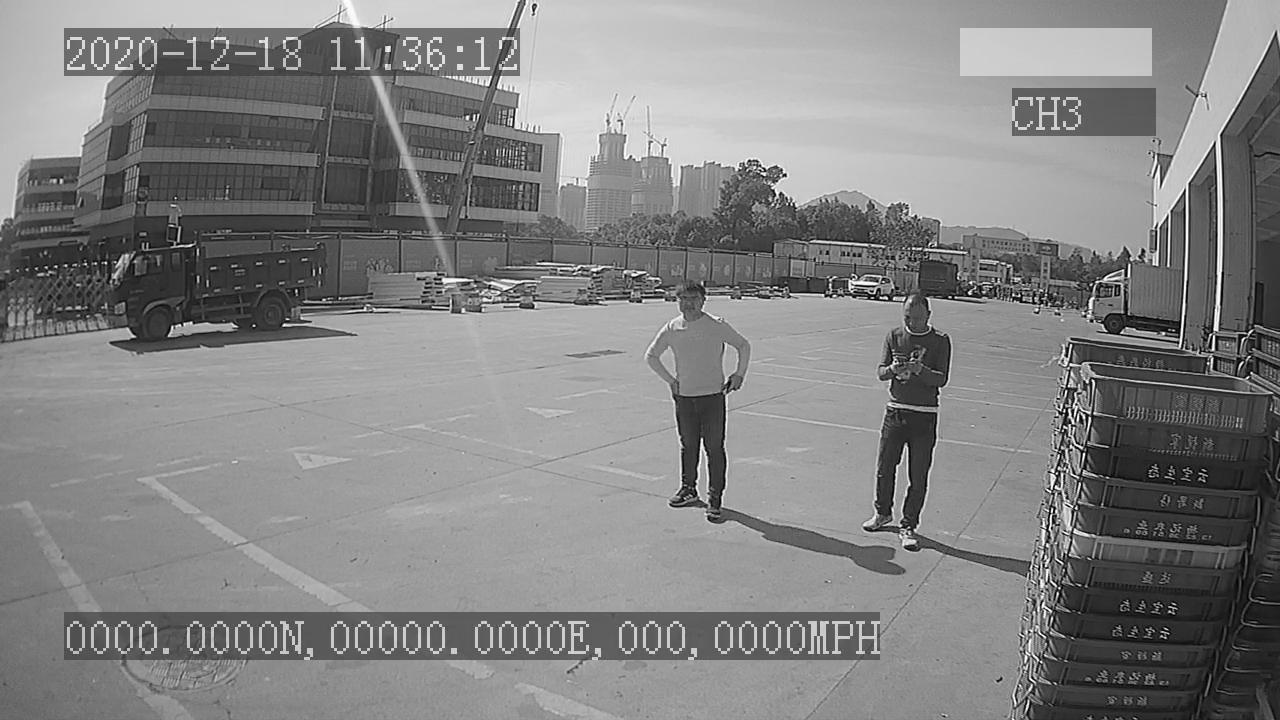person: (644, 279, 752, 523), (861, 293, 960, 555)
